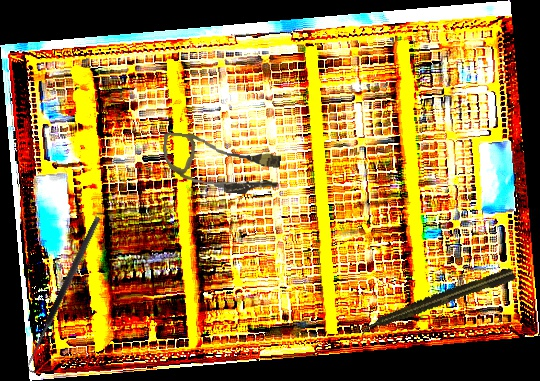Cannula: (159, 131, 283, 198)
Handpiece: (357, 265, 518, 337)
Hook Surgical: (22, 215, 109, 375)
